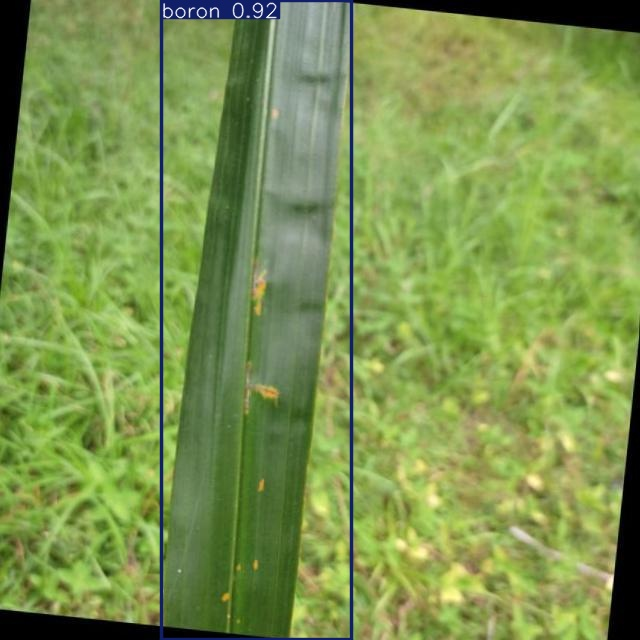nitrogen: (162, 0, 351, 639)
